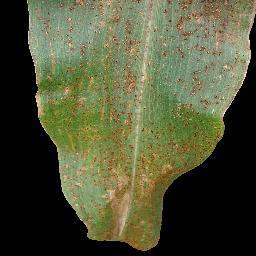Corn_Common_Rust: (28, 1, 256, 252)
